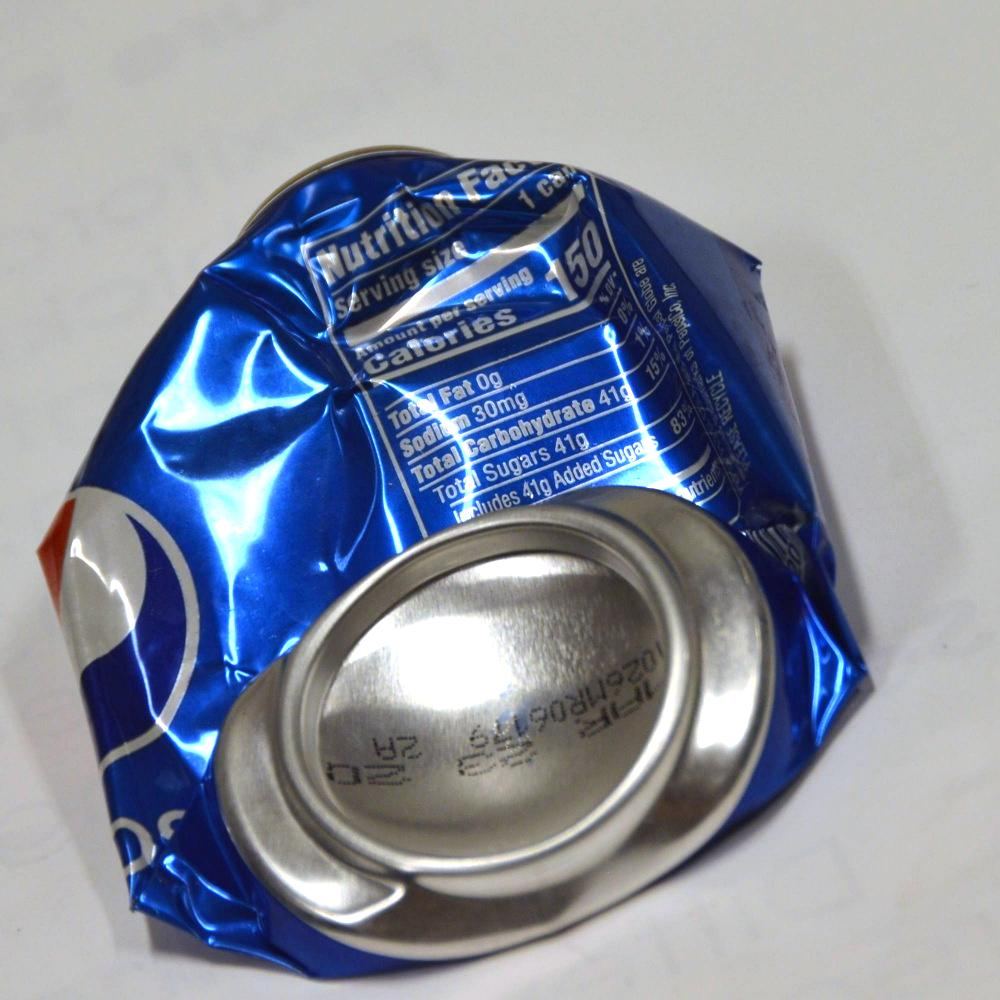Metal: (65, 118, 830, 932)
